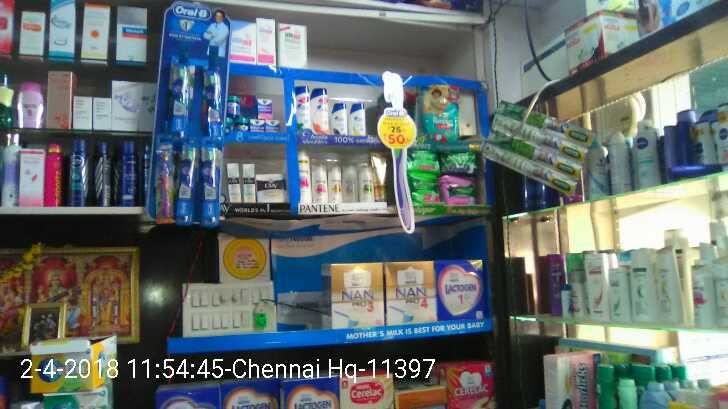oralcare: (156, 1, 224, 226)
vicks: (228, 94, 281, 132)
